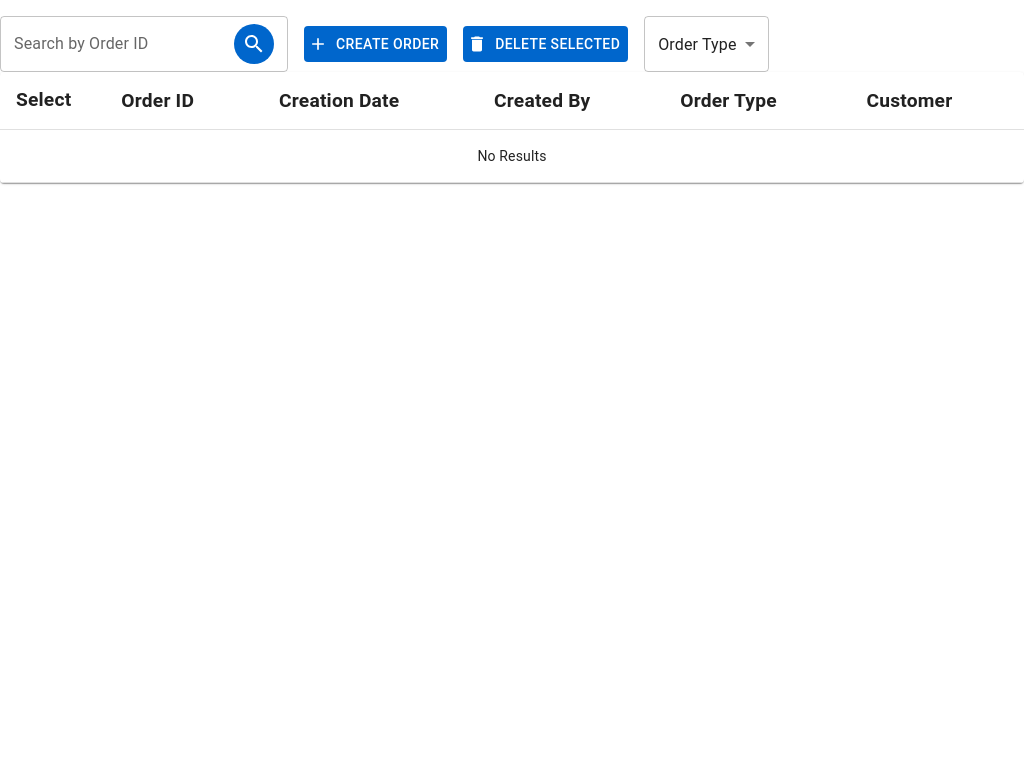
Scenario: OrderListPage › create order modal
Click the button "Create Order": coordinates (376, 44) x1=304 y1=26 x2=447 y2=62
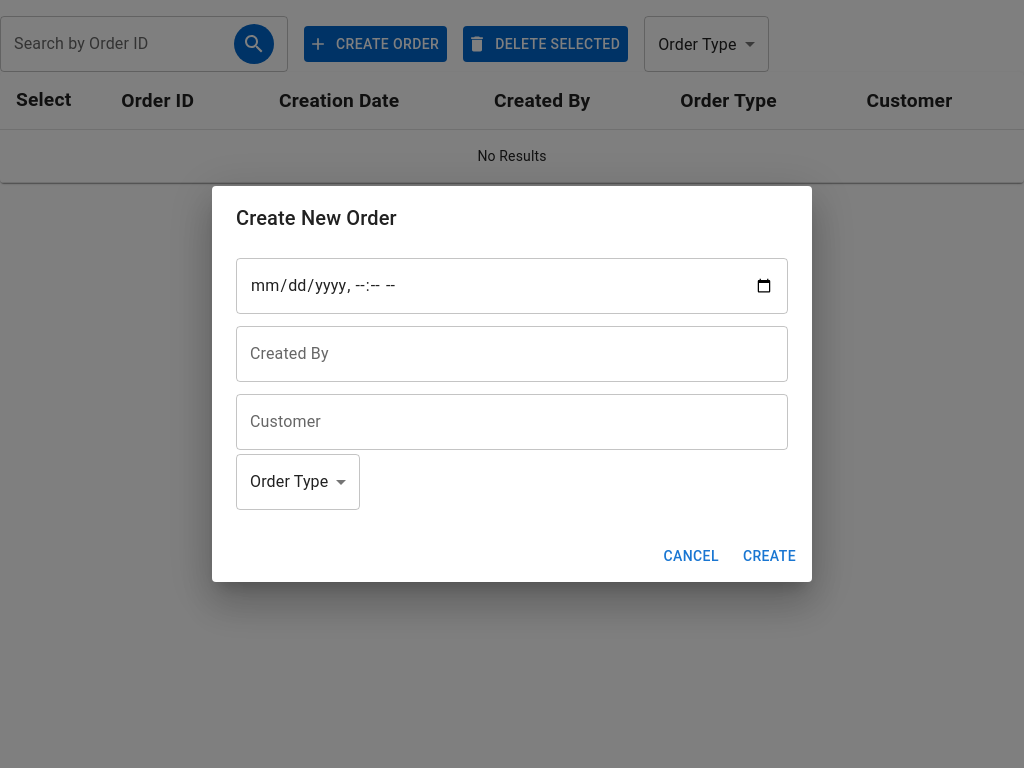
Now the heading "Create New Order" is shown, box x1=236 y1=206 x2=397 y2=230
Click the button "Cancel": coordinates (691, 556) x1=655 y1=538 x2=727 y2=574
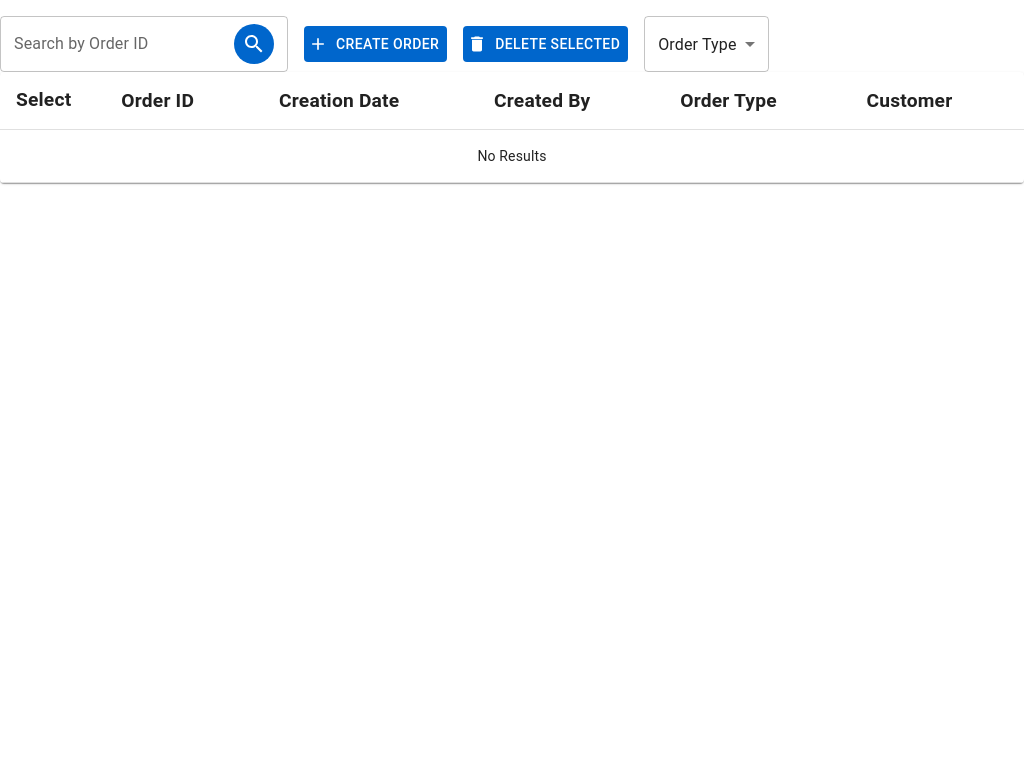
Now the heading "Create New Order" is gone
